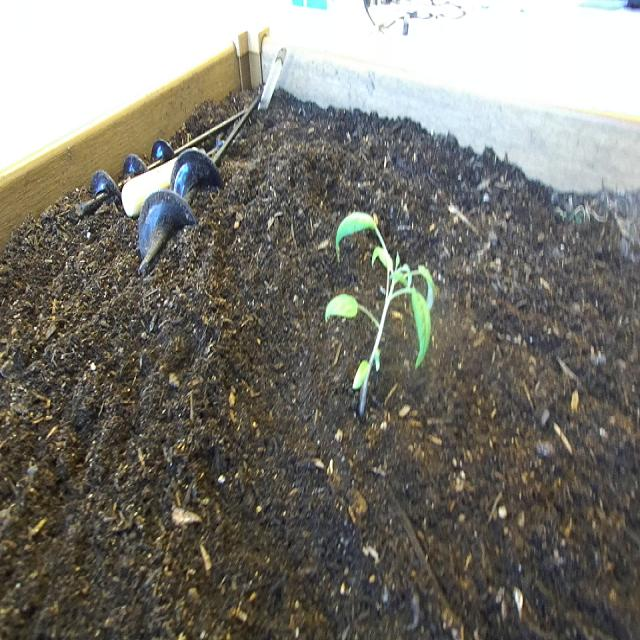Healthy: (320, 201, 441, 424)
